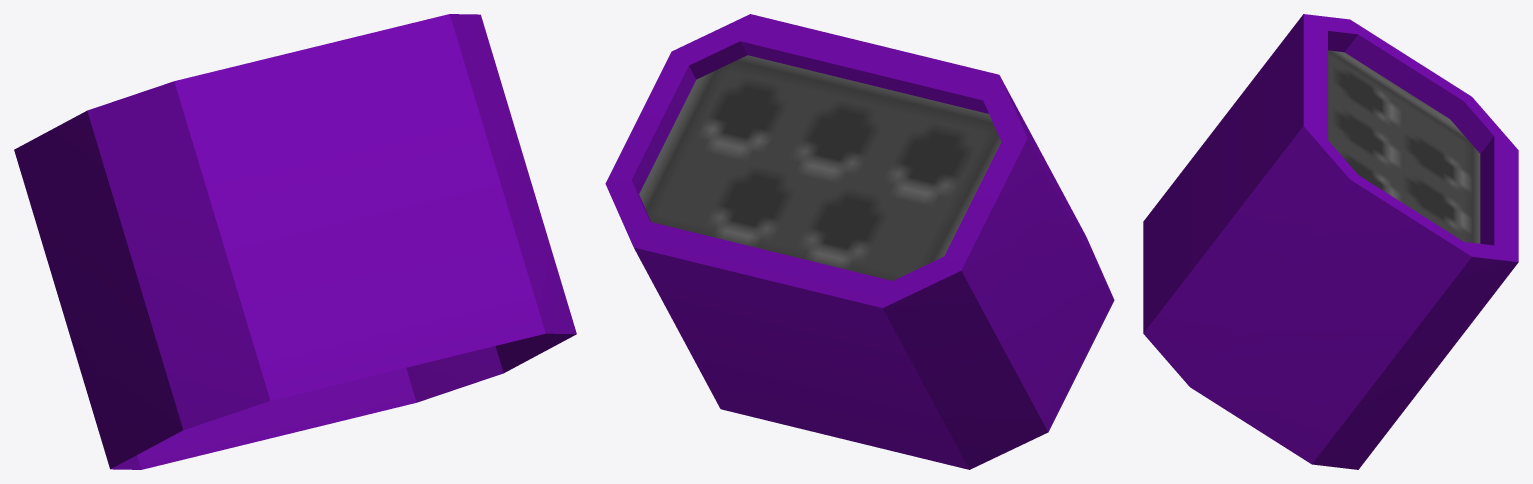
File: RocketLauncher1Enemy7.fbx
3 views of the same model, side by side, from view 1: azimuth 30°, elevation 25°; view 2: azimuth 150°, elevation 25°; view 3: azimuth 270°, elevation 25° (orthographic). The views are drawn at different scales.
Parts seen in each view (by area): view 1: RocketLauncher1Enemy7; view 2: RocketLauncher1Enemy7; view 3: RocketLauncher1Enemy7.
Boxes of the visible parts, x1=… form: RocketLauncher1Enemy7: x1=14, y1=14, x2=576, y2=469; RocketLauncher1Enemy7: x1=605, y1=14, x2=1114, y2=469; RocketLauncher1Enemy7: x1=1143, y1=14, x2=1518, y2=469.
Size of the model in its own units: 0.4771 by 0.4813 by 0.4825.
